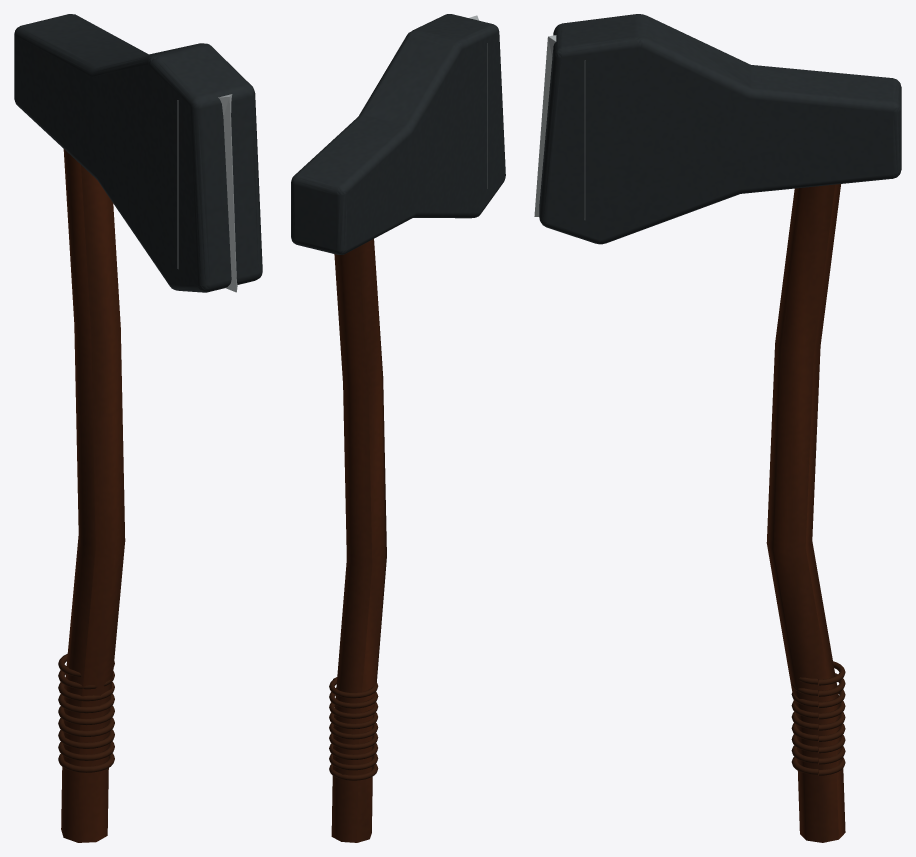
File: Axe.fbx
3 views of the same model, side by side, from view 1: azimuth 30°, elevation 25°; view 2: azimuth 150°, elevation 25°; view 3: azimuth 270°, elevation 25° (orthographic). The views are drawn at different scales.
Visible parts, largest first — view 1: AxeBody; view 2: AxeBody; view 3: AxeBody.
Part boxes in pixels (bbox=[...]): AxeBody: bbox=[14, 14, 262, 842]; AxeBody: bbox=[291, 14, 505, 842]; AxeBody: bbox=[534, 14, 901, 842].
Size of the model in its own units: 6.8 by 85.96 by 35.4.
Materials: 5 (3 with a texture image).
